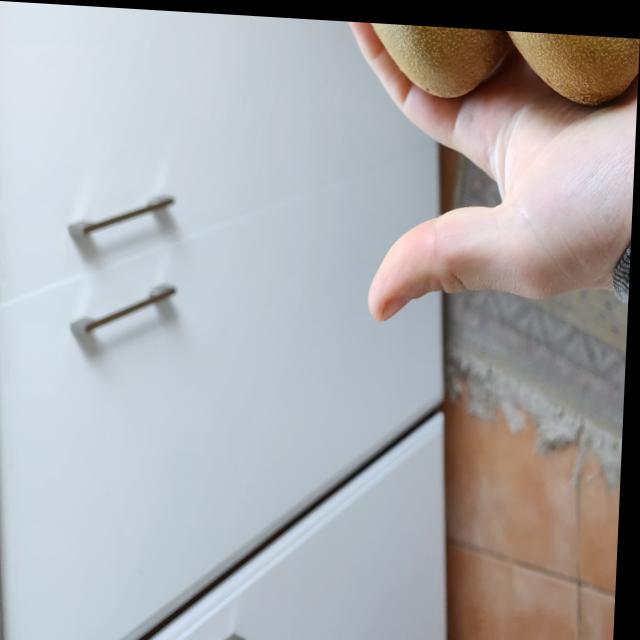kiwi: (342, 16, 509, 93), (481, 23, 640, 98)
